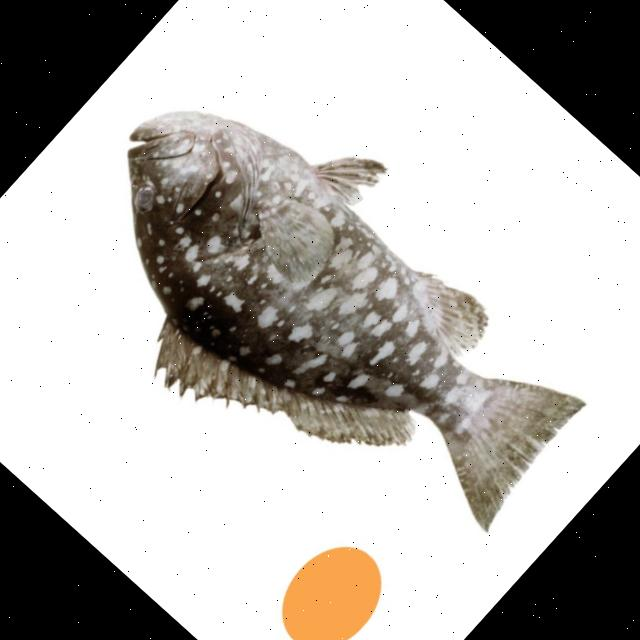ikan: (16, 23, 624, 616)
